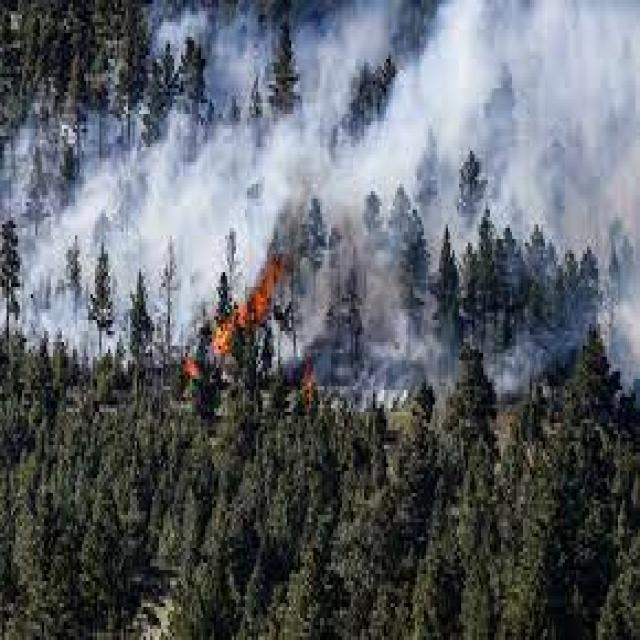Fire: (238, 262, 274, 318), (206, 322, 236, 361), (182, 356, 202, 384)
Smoke: (302, 6, 640, 240), (324, 4, 640, 168), (0, 111, 263, 272), (4, 113, 363, 215), (488, 0, 634, 226), (137, 109, 285, 322), (593, 0, 640, 374), (208, 0, 270, 107)
